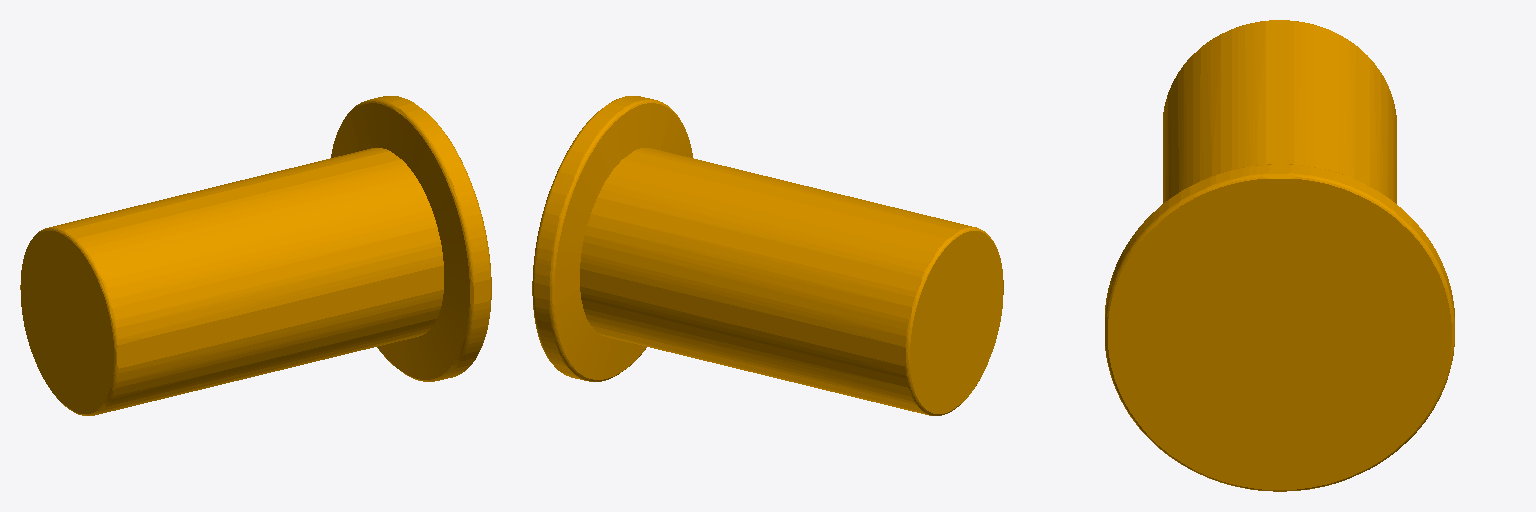
The robot description file, URDF, robot "peg.urdf":
<?xml version="1.0" ?>
<robot name="peg.urdf">
	<link name="baseLink">
		<inertial>
			<origin rpy="0 0 0" xyz="0 0 0"/>
				<mass value="0.5"/>
				<inertia ixx="3e-3" ixy="0" ixz="0" iyy="3e-3" iyz="0" izz="3e-3"/>
		</inertial>
		<visual>
			<origin rpy="0 0 0" xyz="0 0 0"/>
			<geometry>
				<mesh filename="peg_decom.obj" scale="0.95 0.95 0.95"/>
			</geometry>
		</visual>
		<collision>
			<origin rpy="0 0 0" xyz="0 0 0"/>
			<geometry>
				<mesh filename="peg_decom.obj" scale="0.95 0.95 0.95"/>
			</geometry>
		</collision>
	</link>
</robot>

--- What the picture shows (computed from the rendered views, not written in the file) ---
The picture shows the robot from 3 angles, left to right: view 1: azimuth 30°, elevation 25°; view 2: azimuth 150°, elevation 25°; view 3: azimuth 270°, elevation 25°; orthographic projection.
Robot: peg.urdf — 1 links, 0 joints (none); root link baseLink; default pose: all joints at 0.
Links seen in each view (by area): view 1: baseLink; view 2: baseLink; view 3: baseLink.
Link boxes in pixels (bbox=[...]): baseLink: bbox=[20, 96, 491, 415]; baseLink: bbox=[532, 96, 1003, 415]; baseLink: bbox=[1105, 20, 1454, 491].
Size in the robot's own frame: 0.0809 by 0.0572 by 0.0572 metres.
1 mesh visuals loaded from 1 distinct referenced files (1 OBJ).